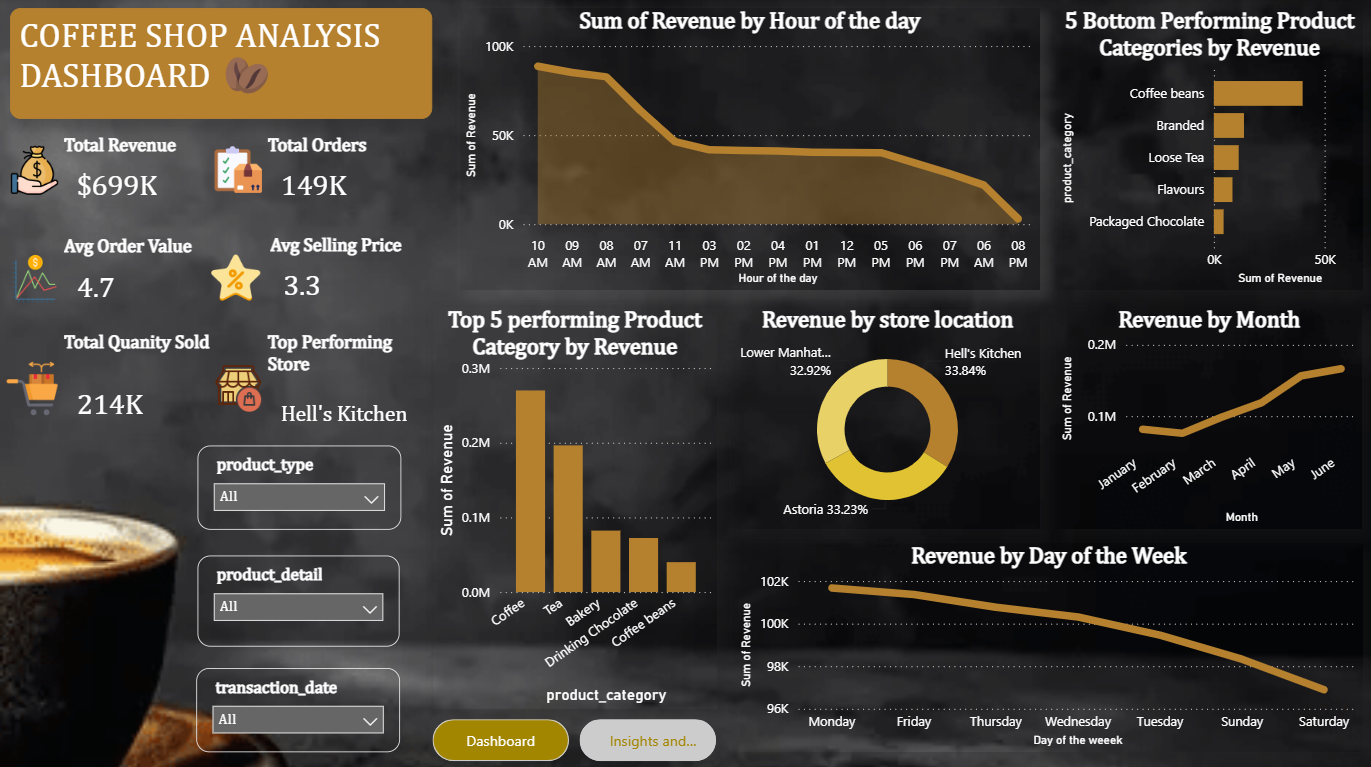

The page's visual inventory and layout, read from the dashboard file:
{"tool":"powerbi","page":{"name":"Dashboard","canvas":[1280,720],"ordinal":0},"visuals":[{"type":"textbox","box":[9.3,9.3,393,103.5],"z":0},{"type":"image","box":[198.8,52.3,61.6,39.5],"z":1000},{"type":"cardVisual","title":"Total Revenue","fields":{"Data":["Transactions.total revenue"]},"box":[54.9,126.2,157.8,79.6],"z":2000},{"type":"cardVisual","title":"Total Orders","fields":{"Data":["Transactions.Total orders"]},"box":[244.3,126.2,157.8,79.6],"z":3000},{"type":"cardVisual","title":"Avg Order Value","fields":{"Data":["Transactions.Avg order value"]},"box":[54.9,220.9,157.8,79.6],"z":4000},{"type":"cardVisual","title":"Avg Selling Price","fields":{"Data":["Transactions.Avg selling price"]},"box":[247,219.6,171.5,79.6],"z":5000},{"type":"cardVisual","title":"Total Quanity Sold","fields":{"Data":["Transactions.Total quantity"]},"box":[54.9,310.1,157.8,119.4],"z":6000},{"type":"cardVisual","title":"Top Performing Store","fields":{"Data":["Transactions.Top Performing Store"]},"box":[244.3,310.1,157.8,119.4],"z":7000},{"type":"image","box":[9.6,127.6,45.3,64.5],"z":8000},{"type":"image","box":[199,126.2,45.3,65.9],"z":9000},{"type":"image","box":[6.9,236,50.8,50.8],"z":10000},{"type":"image","box":[196.2,220.9,45.3,78.2],"z":11000},{"type":"image","box":[4.1,310.1,50.8,105.7],"z":12000},{"type":"image","box":[196.2,310.1,50.8,105.7],"z":13000},{"type":"areaChart","fields":{"Category":["Transactions.Hour of the day"],"Y":["Sum(Transactions.Revenue)"]},"box":[428.1,9.6,539.3,262.1],"z":14000},{"type":"clusteredColumnChart","title":"Top 5 performing Product Category by Revenue","fields":{"Category":["Transactions.product_category"],"Y":["Sum(Transactions.Revenue)"]},"box":[402.3,287.2,265.1,374.4],"z":15000},{"type":"lineChart","title":"Revenue by Day of the Week","fields":{"Category":["Transactions.Day of the weeek"],"Y":["Sum(Transactions.Revenue)"]},"box":[683.7,507,583.7,194.2],"z":16000},{"type":"donutChart","title":"Revenue by store location","fields":{"Category":["Transactions.store_location"],"Y":["Sum(Transactions.Revenue)"]},"box":[683.4,286.8,284,207.2],"z":17000},{"type":"barChart","title":"5 Bottom Performing Product Categories by Revenue","fields":{"Category":["Transactions.product_category"],"Y":["Sum(Transactions.Revenue)"]},"box":[982.5,9.6,285.4,262.1],"z":18000},{"type":"slicer","fields":{"Values":["Transactions.product_type"]},"box":[183.9,415.8,189.4,78.2],"z":19000},{"type":"slicer","fields":{"Values":["Transactions.product_detail"]},"box":[183.9,518.7,188,85.1],"z":20000},{"type":"slicer","fields":{"Values":["Transactions.transaction_date"]},"box":[182.5,623,189.4,78.2],"z":21000},{"type":"lineChart","title":"Revenue by Month","fields":{"Y":["Sum(Transactions.Revenue)"],"Category":["Transactions.transaction_date.Variation.Date Hierarchy.Month"]},"box":[982.6,287.2,284.9,207],"z":22000},{"type":"pageNavigator","box":[402.3,670.9,265.1,39.5],"z":23000}]}

Visuals, with their boxes in screenshot pixels (x1, y1, x2, y2), scaled from the page's 1280x720 canvas onto the 1371x767 screenshot:
textbox: bbox=(10, 10, 431, 120)
image: bbox=(213, 56, 279, 98)
"Total Revenue" cardVisual: bbox=(59, 134, 228, 219)
"Total Orders" cardVisual: bbox=(262, 134, 431, 219)
"Avg Order Value" cardVisual: bbox=(59, 235, 228, 320)
"Avg Selling Price" cardVisual: bbox=(265, 234, 448, 319)
"Total Quanity Sold" cardVisual: bbox=(59, 330, 228, 458)
"Top Performing Store" cardVisual: bbox=(262, 330, 431, 458)
image: bbox=(10, 136, 59, 205)
image: bbox=(213, 134, 262, 205)
image: bbox=(7, 251, 62, 306)
image: bbox=(210, 235, 259, 319)
image: bbox=(4, 330, 59, 443)
image: bbox=(210, 330, 265, 443)
areaChart - Transactions.Hour of the day x Sum(Transactions.Revenue): bbox=(459, 10, 1036, 289)
"Top 5 performing Product Category by Revenue" clusteredColumnChart: bbox=(431, 306, 715, 705)
"Revenue by Day of the Week" lineChart: bbox=(732, 540, 1358, 747)
"Revenue by store location" donutChart: bbox=(732, 306, 1036, 526)
"5 Bottom Performing Product Categories by Revenue" barChart: bbox=(1052, 10, 1358, 289)
slicer - Transactions.product_type: bbox=(197, 443, 400, 526)
slicer - Transactions.product_detail: bbox=(197, 553, 398, 643)
slicer - Transactions.transaction_date: bbox=(195, 664, 398, 747)
"Revenue by Month" lineChart: bbox=(1052, 306, 1358, 526)
pageNavigator: bbox=(431, 715, 715, 757)
